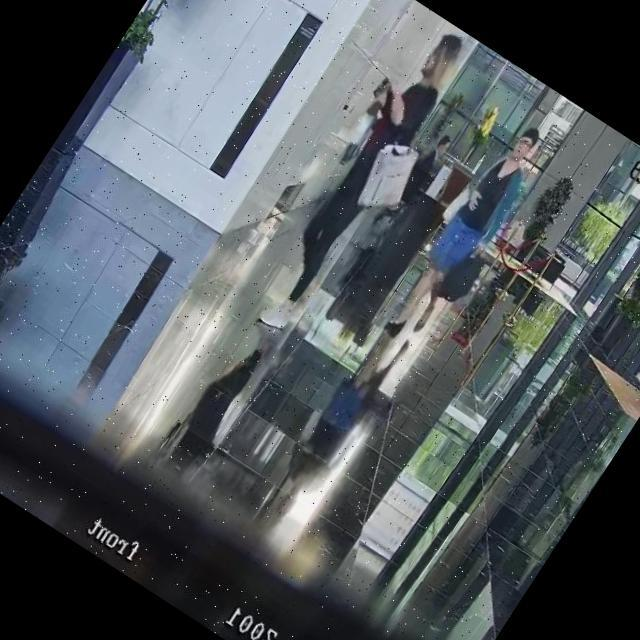person: (248, 17, 474, 324), (378, 112, 558, 352), (394, 130, 453, 208)
